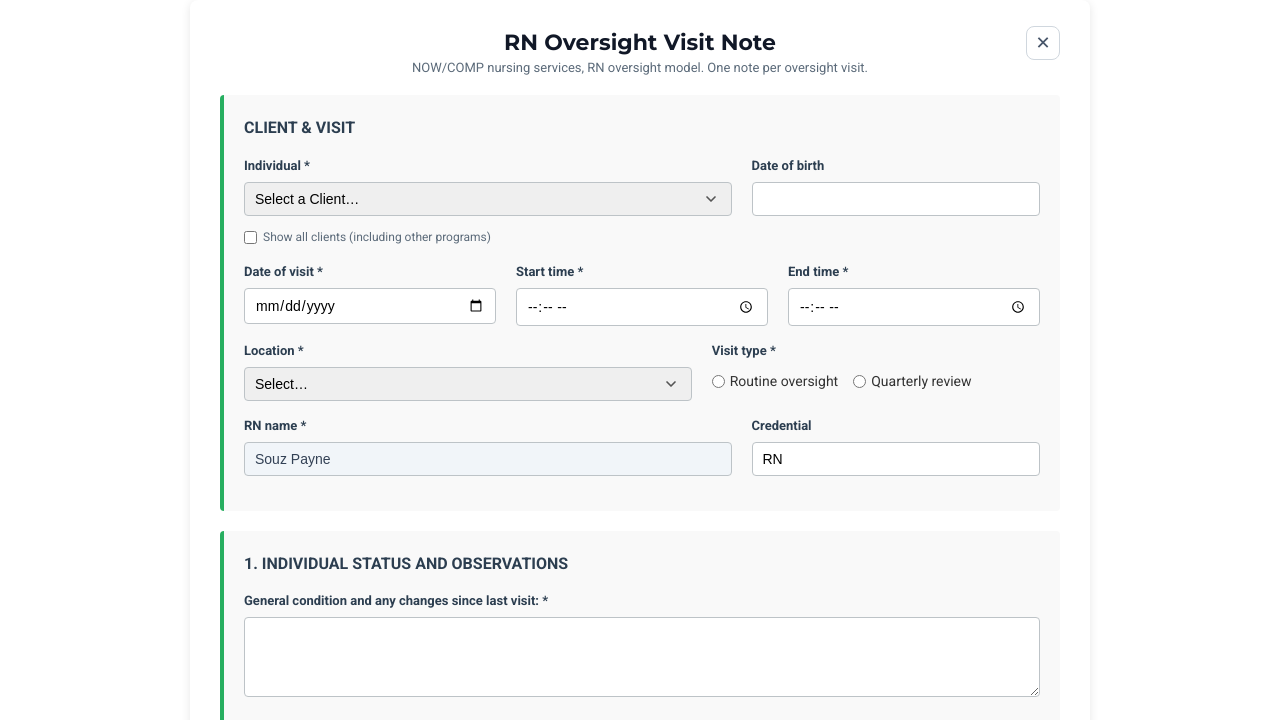
Test case: OversightNotePage — client details › renders the date of birth in US format
// Select by role — "Individual" also labels an education-recipient checkbox.
Select "Neal Kelly" in the dropdown labelled "Individual *": (488, 199) [244,182,732,216]
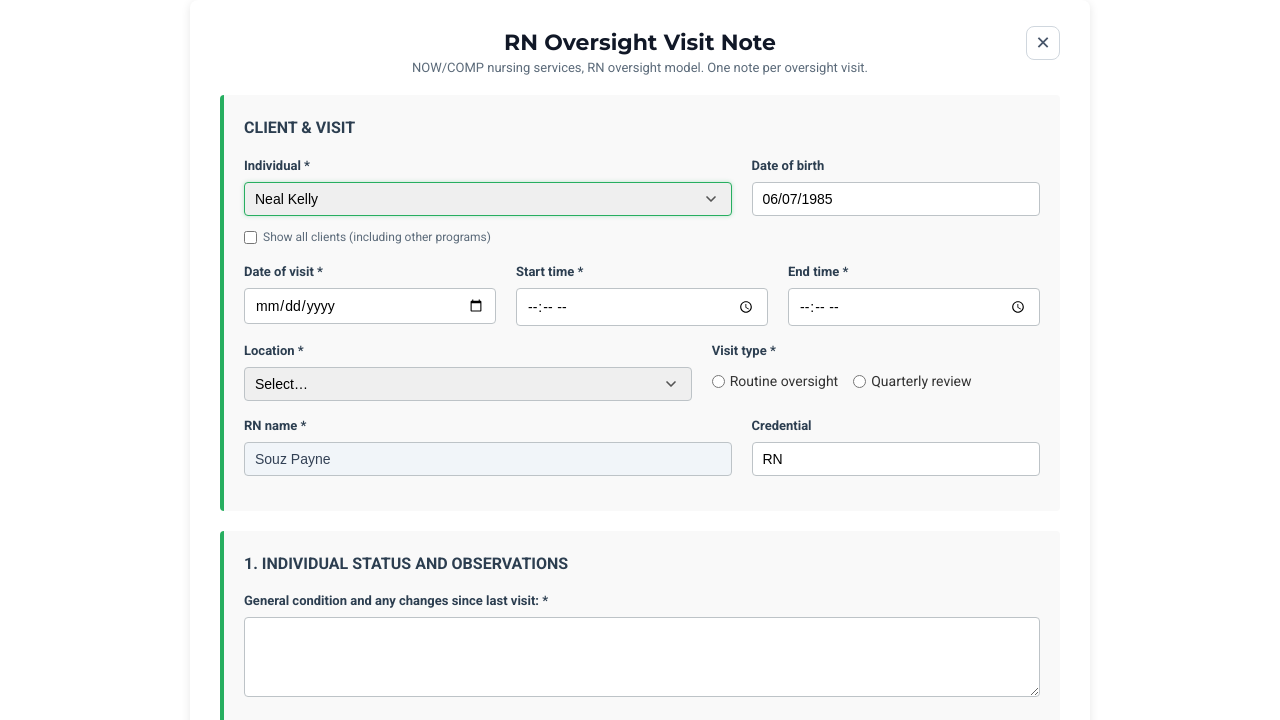
Now the field showing "06/07/1985" below "Date of birth" is shown, box [752,182,1040,216]
